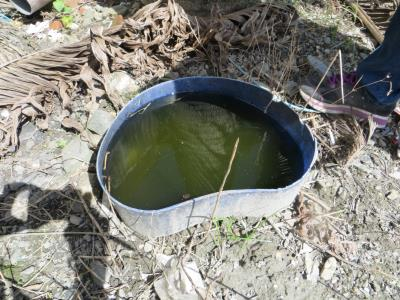bowl: (90, 71, 328, 242)
